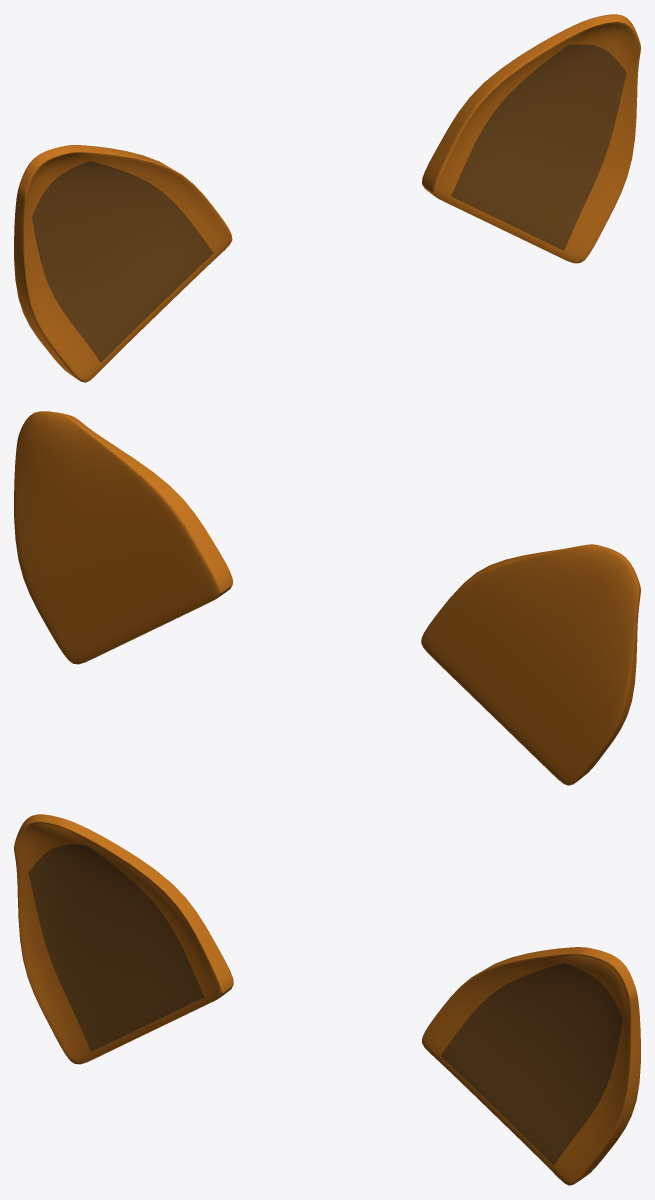
File: fox-ears.glb
3 renders of one model, top to bottom at view 1: azimuth 30°, elevation 25°; view 2: azimuth 150°, elevation 25°; view 3: azimuth 330°, elevation 25°, orthographic.
Visible parts, largest first — view 1: fox right ear, fox left ear; view 2: fox right ear, fox left ear; view 3: fox left ear, fox right ear.
Boxes of the visible parts, x1,y1,x2,y2 form: fox right ear: (422,14,640,263); fox left ear: (14,145,232,382); fox right ear: (14,411,232,664); fox left ear: (421,544,640,785); fox left ear: (14,814,233,1064); fox right ear: (422,947,640,1185).
Size of the model in its own units: 6.58 by 2.42 by 0.2852.
